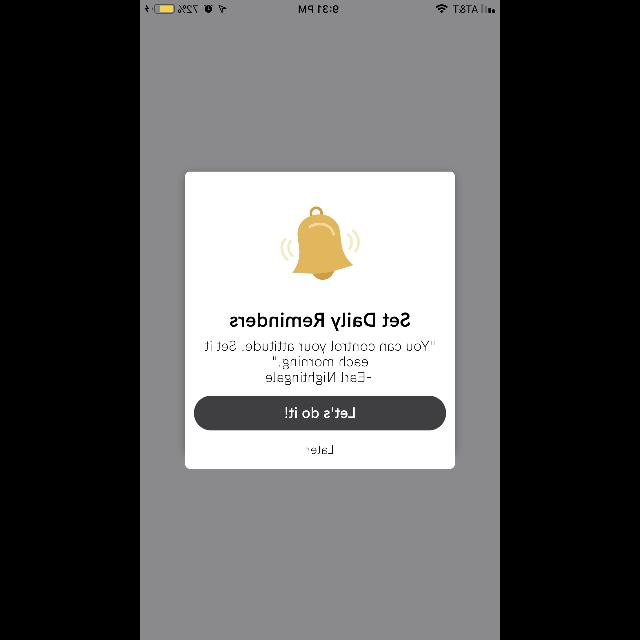image: (280, 207, 360, 280)
panel: (186, 172, 454, 468)
text: (206, 341, 434, 385), (230, 313, 410, 332), (306, 446, 332, 454)
textbutton: (194, 396, 446, 430)
uppertaskbar: (140, 0, 500, 14)
